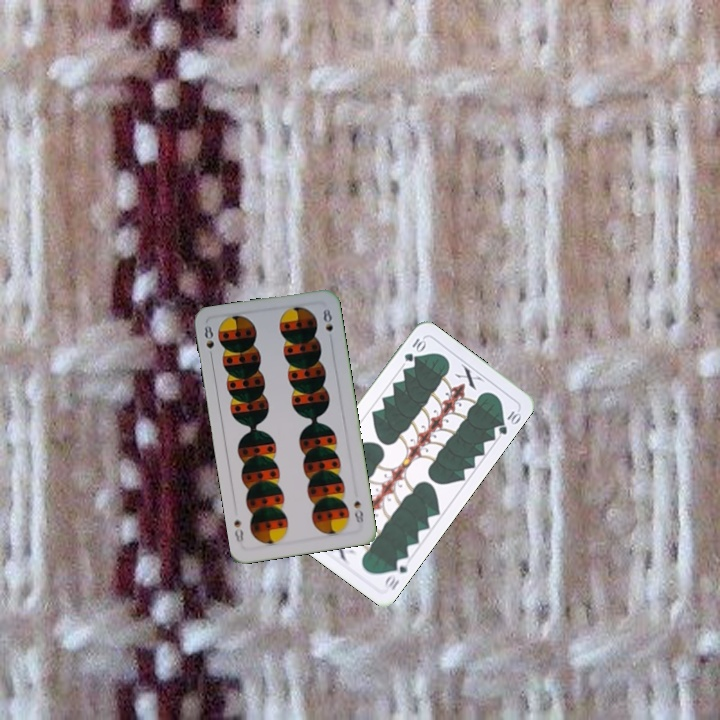G10: (380, 554, 411, 593), (400, 334, 428, 364)
S8: (200, 321, 217, 362), (350, 496, 366, 526)
